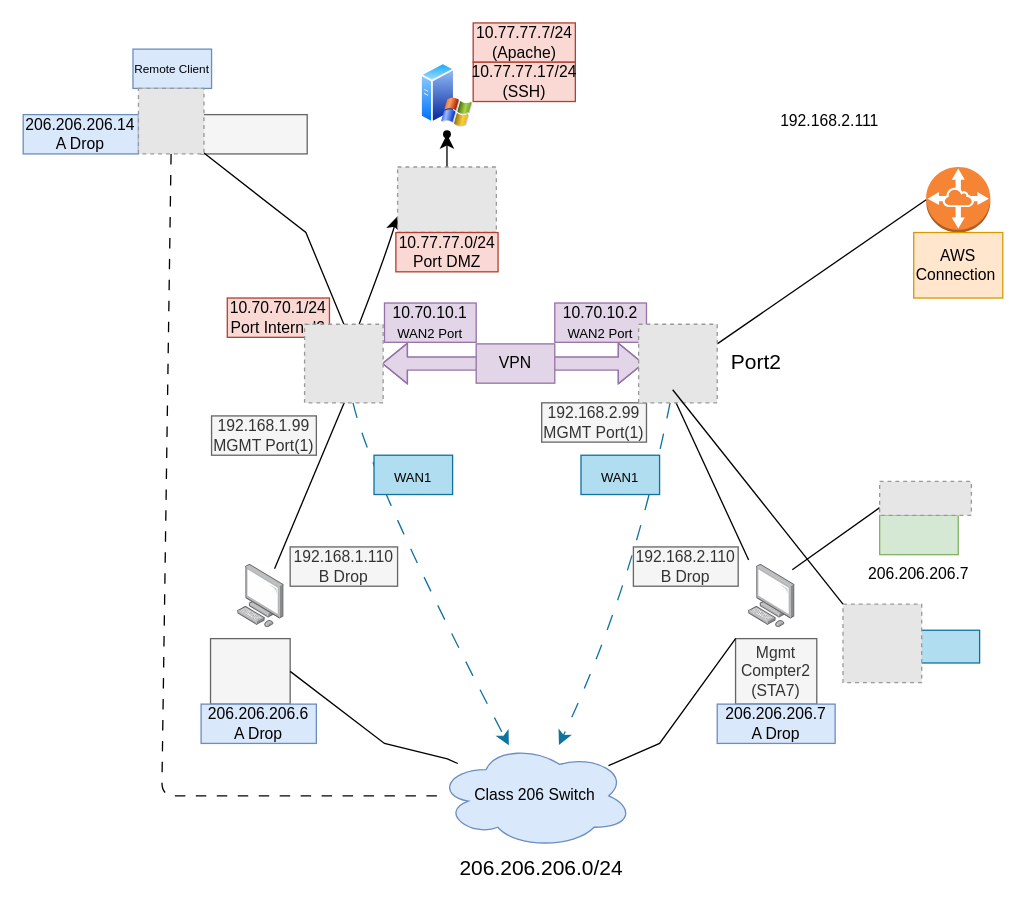
The diagram is 1026 pixels wide and 910 high, and some of its shapes have lost their labels. Grey dashed boxes stand in for pictures. Here are the shapes that lost their labels. From the top down, the box of each, then its label:
(200, 113, 307, 154): 10.70.70.70/24 B Drop
(878, 514, 958, 555): Splunk
(900, 629, 980, 663): Kali Sta 14?
(209, 637, 290, 704): Mgmt Compter1 (STA6)
